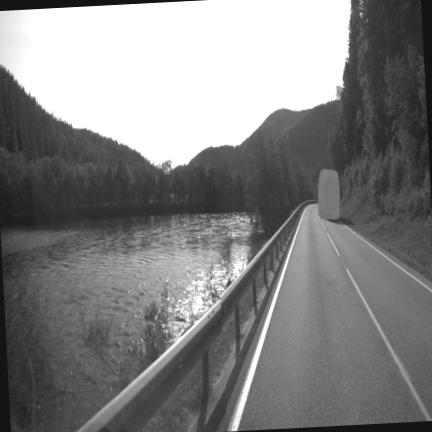Road: (232, 206, 431, 429)
